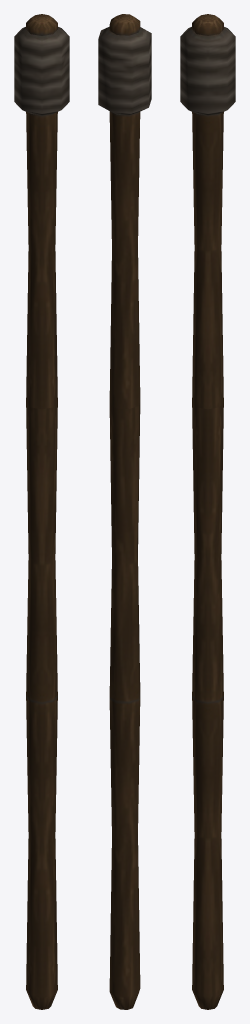
Rendered from TorchLong_Geo.fbx.
3 views of the same model, side by side, from view 1: azimuth 90°, elevation 25°; view 2: azimuth 150°, elevation 25°; view 3: azimuth 270°, elevation 25° (orthographic).
Parts seen in each view (by area): view 1: TorchLong_Geo; view 2: TorchLong_Geo; view 3: TorchLong_Geo.
Boxes of the visible parts, <box> form: TorchLong_Geo: <box>14,14,69,1009</box>; TorchLong_Geo: <box>98,14,151,1009</box>; TorchLong_Geo: <box>180,14,235,1009</box>.
Bounding box in the file's own units: 6.53 × 129 × 6.53.
